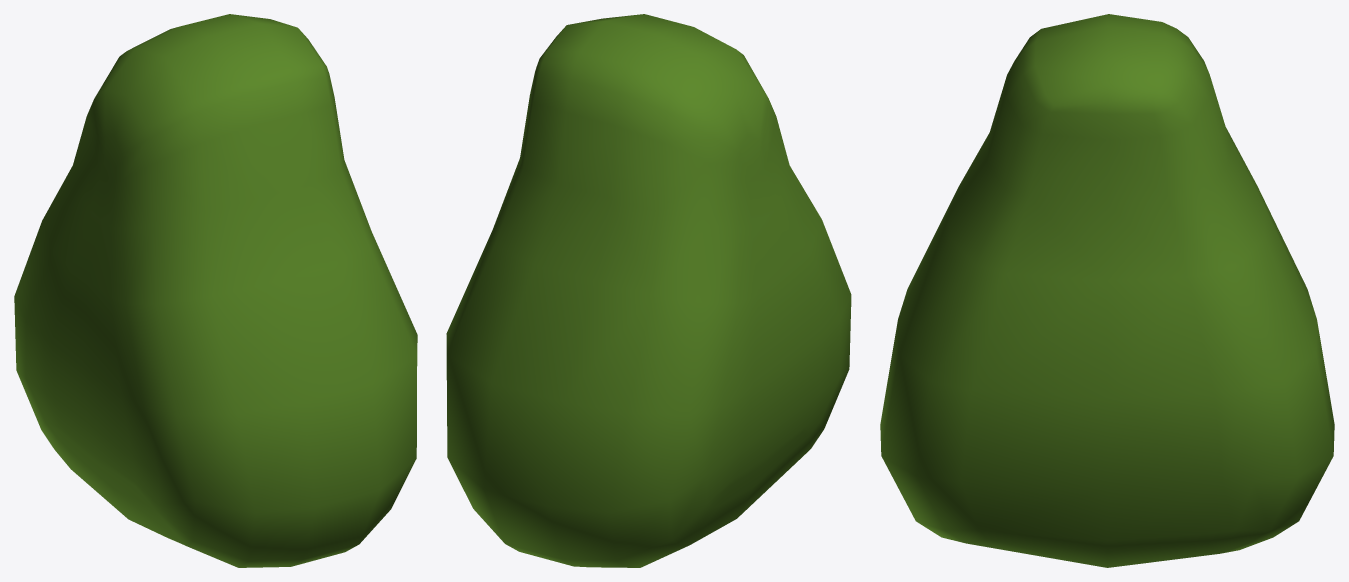
Rendered from AbacateFechado.fbx.
The picture shows the model from 3 angles, left to right: view 1: azimuth 30°, elevation 25°; view 2: azimuth 150°, elevation 25°; view 3: azimuth 270°, elevation 25°; orthographic projection. The views are drawn at different scales.
Visible parts, largest first — view 1: Cube.001; view 2: Cube.001; view 3: Cube.001.
Boxes of the visible parts, x1,y1,x2,y2 form: Cube.001: (14,14,417,567); Cube.001: (446,14,851,567); Cube.001: (880,14,1334,567).
Size of the model in its own units: 339 by 566 by 451.
